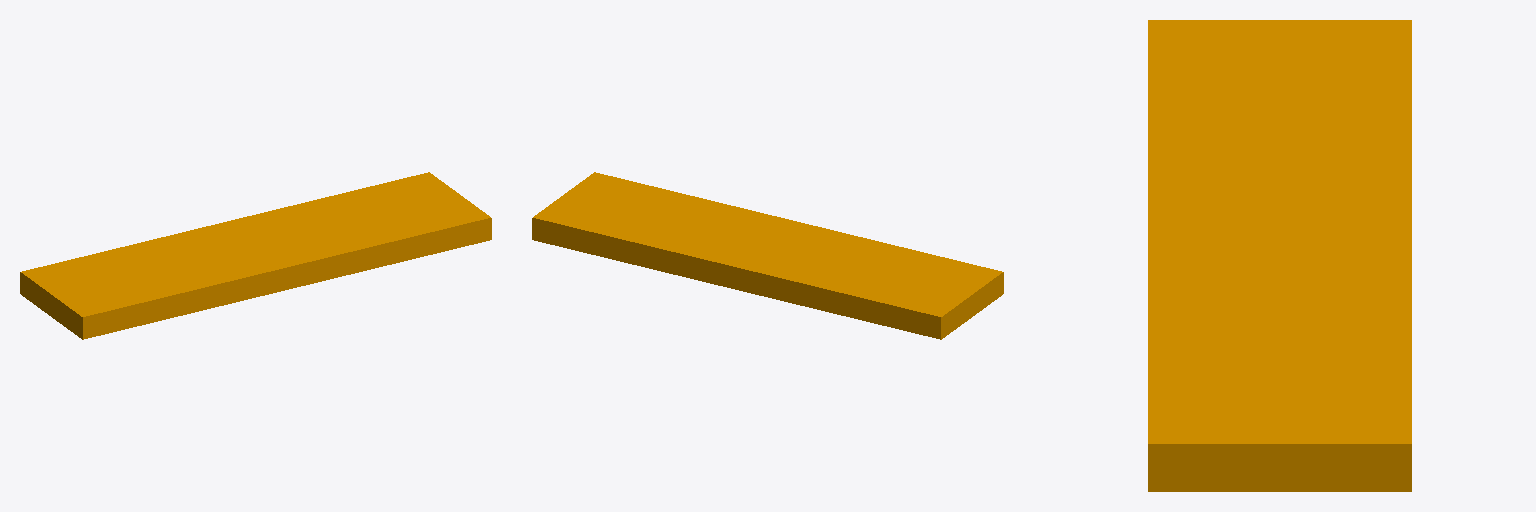
The robot description file, URDF, robot "object":
<?xml version="1.0"?>
<robot name="object">
  <link name="object">
    <visual>
      <origin xyz="0 0 0"/>
      <geometry>
        <box size="1.9 0.5 0.1"/>
      </geometry>
    </visual>
    <collision>
      <origin xyz="0 0 0"/>
      <geometry>
        <box size="1.9 0.5 0.1"/> 
      </geometry>
    </collision>
    <!-- <inertial>
      <mass value="0.5"/>
      <inertia ixx="1.05" ixy="0.0" ixz="0.0" iyy="1.05" iyz="0.0" izz="1.05"/>
    </inertial> -->
  </link>
</robot>

--- Render facts (derived) ---
Views: 3 orthographic renders of the robot side by side, from view 1: azimuth 30°, elevation 25°; view 2: azimuth 150°, elevation 25°; view 3: azimuth 270°, elevation 25°.
Model object with 1 links and 0 joints (none), rooted at object, posed all joints at 0.
Links seen in each view (by area): view 1: object; view 2: object; view 3: object.
Boxes of the visible links, box(x1,y1,x2,y2) form: object: box(20, 172, 491, 339); object: box(532, 172, 1003, 339); object: box(1148, 20, 1411, 491).
Size in the robot's own frame: 1.9 by 0.5 by 0.1 metres.
Geometry: primitives only (box / cylinder / sphere), no mesh files.